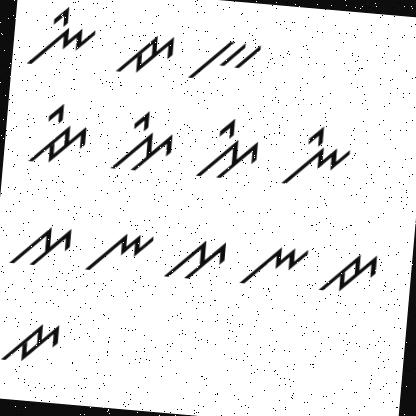ja: (317, 242, 384, 306), (0, 308, 67, 370), (115, 31, 180, 80)
ji: (24, 94, 92, 170)
nya: (80, 219, 158, 281), (236, 236, 310, 300)
nyi: (274, 115, 358, 196), (20, 0, 101, 71)
sa: (5, 212, 76, 274), (160, 228, 233, 288)
si: (188, 108, 268, 186), (109, 108, 178, 178)
